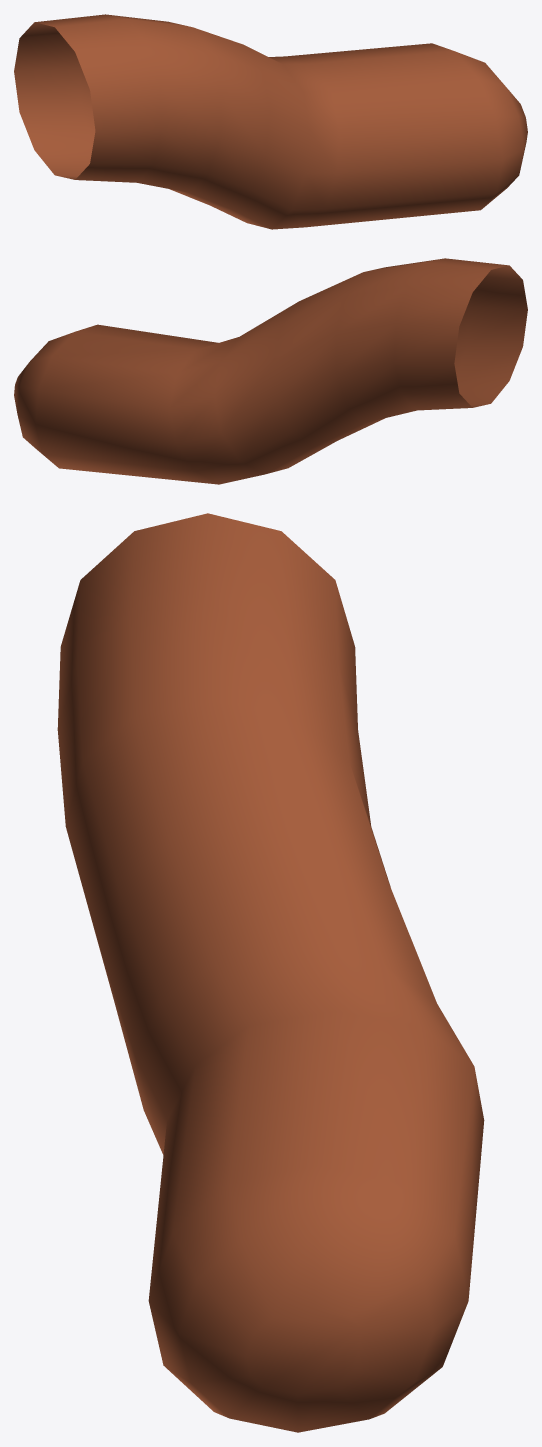
File: SM_tileSol_EndSide_Solo.fbx
The picture shows the model from 3 angles, top to bottom: view 1: azimuth 30°, elevation 25°; view 2: azimuth 150°, elevation 25°; view 3: azimuth 270°, elevation 25°; orthographic projection. The views are drawn at different scales.
Visible parts, largest first — view 1: SM_tileSol_EndSide_Solo; view 2: SM_tileSol_EndSide_Solo; view 3: SM_tileSol_EndSide_Solo.
Boxes of the visible parts, x1,y1,x2,y2 form: SM_tileSol_EndSide_Solo: (14,14,527,229); SM_tileSol_EndSide_Solo: (14,258,527,484); SM_tileSol_EndSide_Solo: (57,513,484,1432).
Size of the model in its own units: 34.33 by 20.19 by 14.48.
